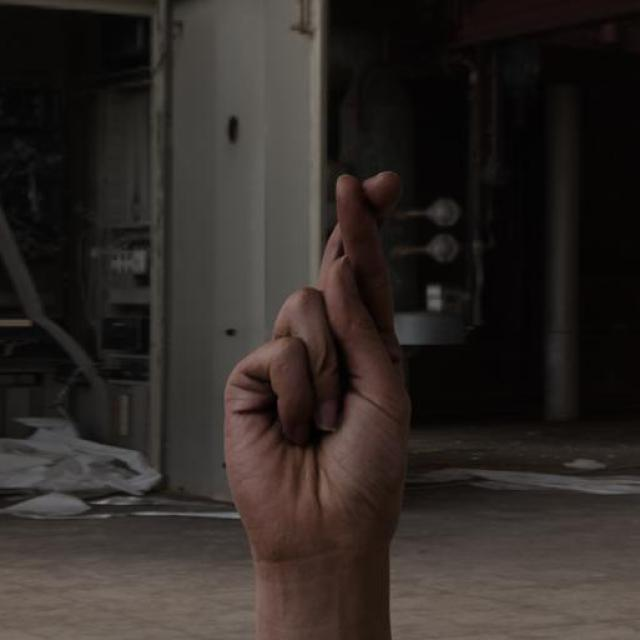R: (212, 162, 430, 532)
